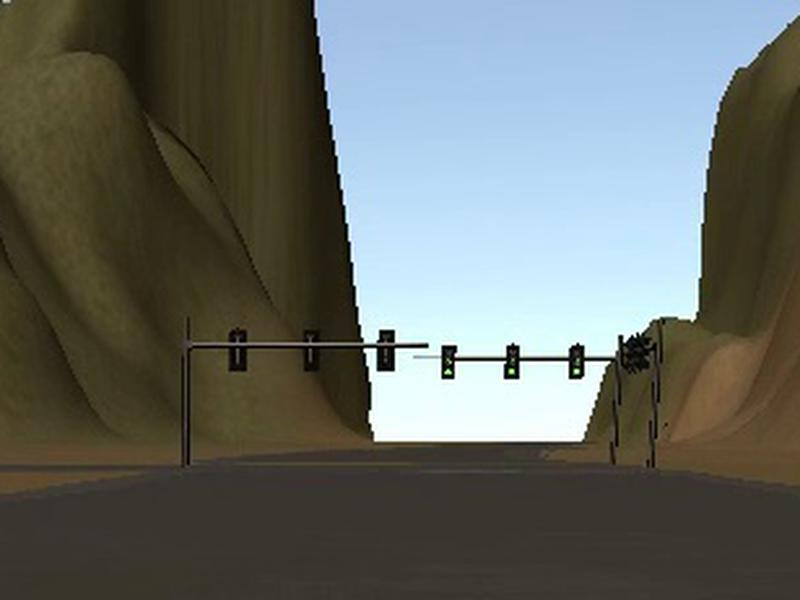Green: (502, 344, 520, 378), (568, 344, 585, 379), (441, 346, 458, 378)
